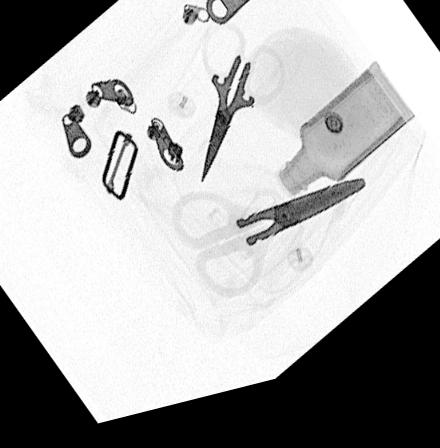Scissors: (167, 190, 373, 314), (195, 28, 288, 199)
